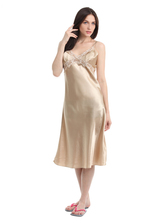clothoes: (52, 40, 116, 173)
